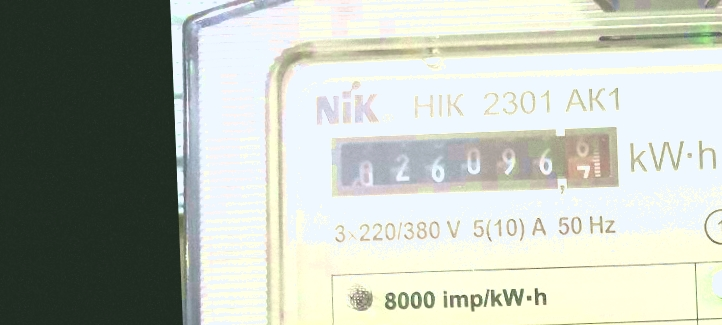0: (462, 143, 483, 178), (354, 155, 376, 188)
2: (390, 149, 412, 185)
6: (427, 150, 448, 186), (535, 143, 554, 177), (572, 131, 592, 159)
7: (574, 160, 592, 182)
9: (498, 144, 518, 177)
screen: (319, 116, 627, 209)
